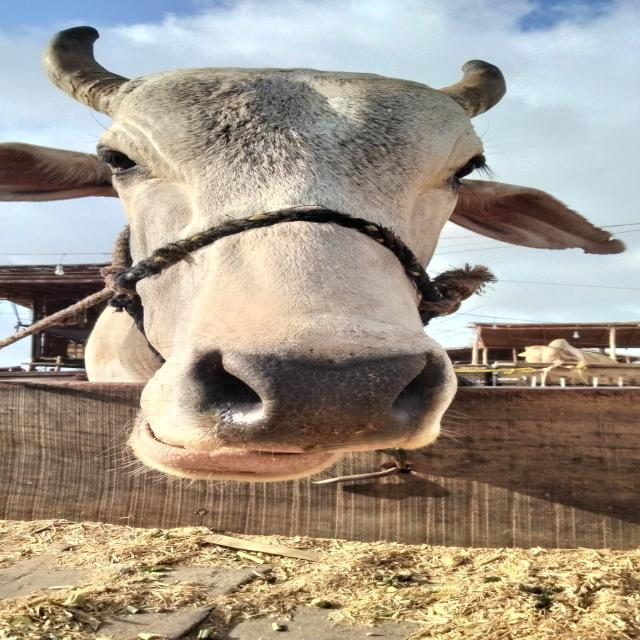muzzles: (185, 331, 448, 459)
